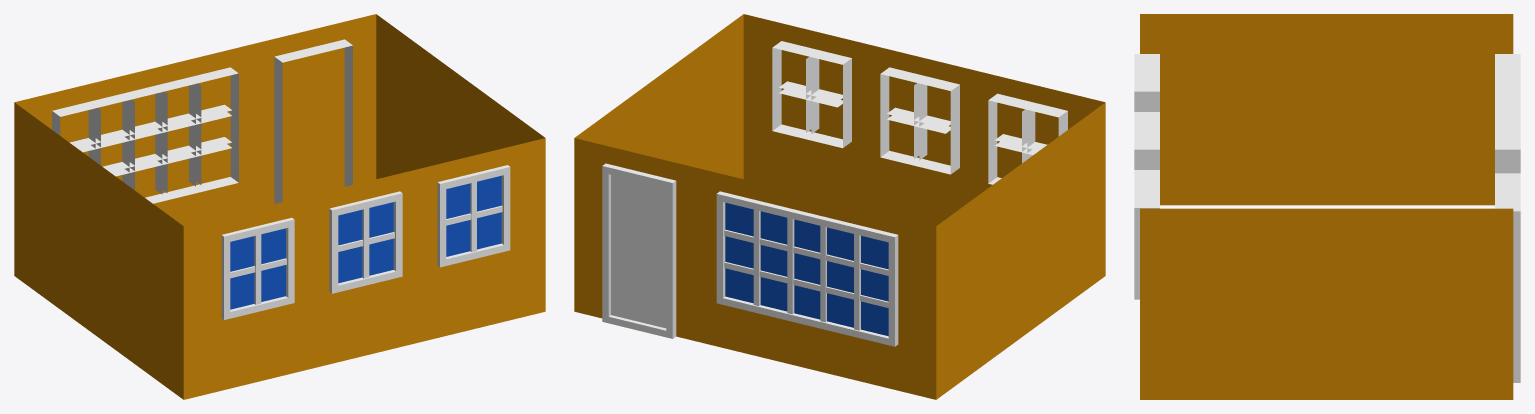
The model's file is CityBuildingB_01_base.fbx.
3 renders of one model, left to right at view 1: azimuth 30°, elevation 25°; view 2: azimuth 150°, elevation 25°; view 3: azimuth 270°, elevation 25°, orthographic. The views are drawn at different scales.
Visible parts, largest first — view 1: CityBuildingB_01_base; view 2: CityBuildingB_01_base; view 3: CityBuildingB_01_base.
Boxes of the visible parts, x1,y1,x2,y2 form: CityBuildingB_01_base: (14,14,545,399); CityBuildingB_01_base: (574,14,1105,399); CityBuildingB_01_base: (1134,14,1520,399).
Bounding box in the file's own units: 0.6706 × 0.3075 × 0.563.
